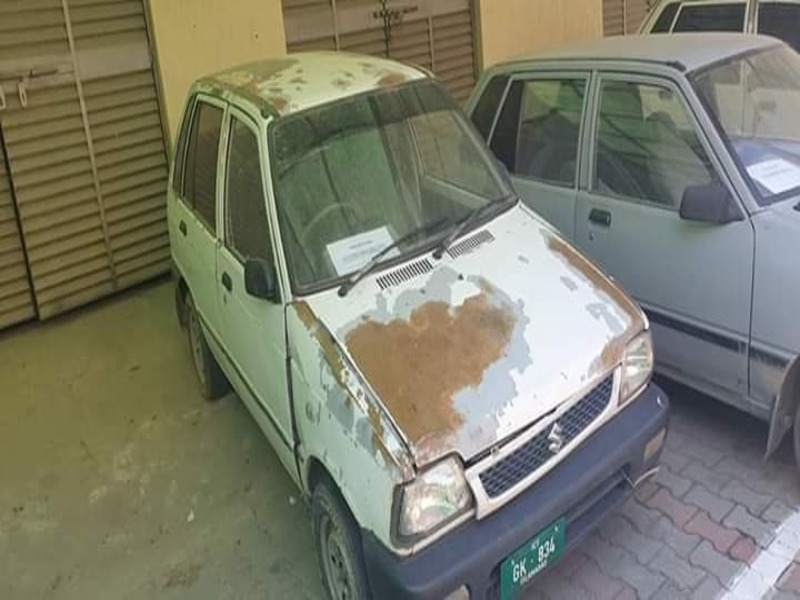License Plate: (495, 516, 569, 600)
